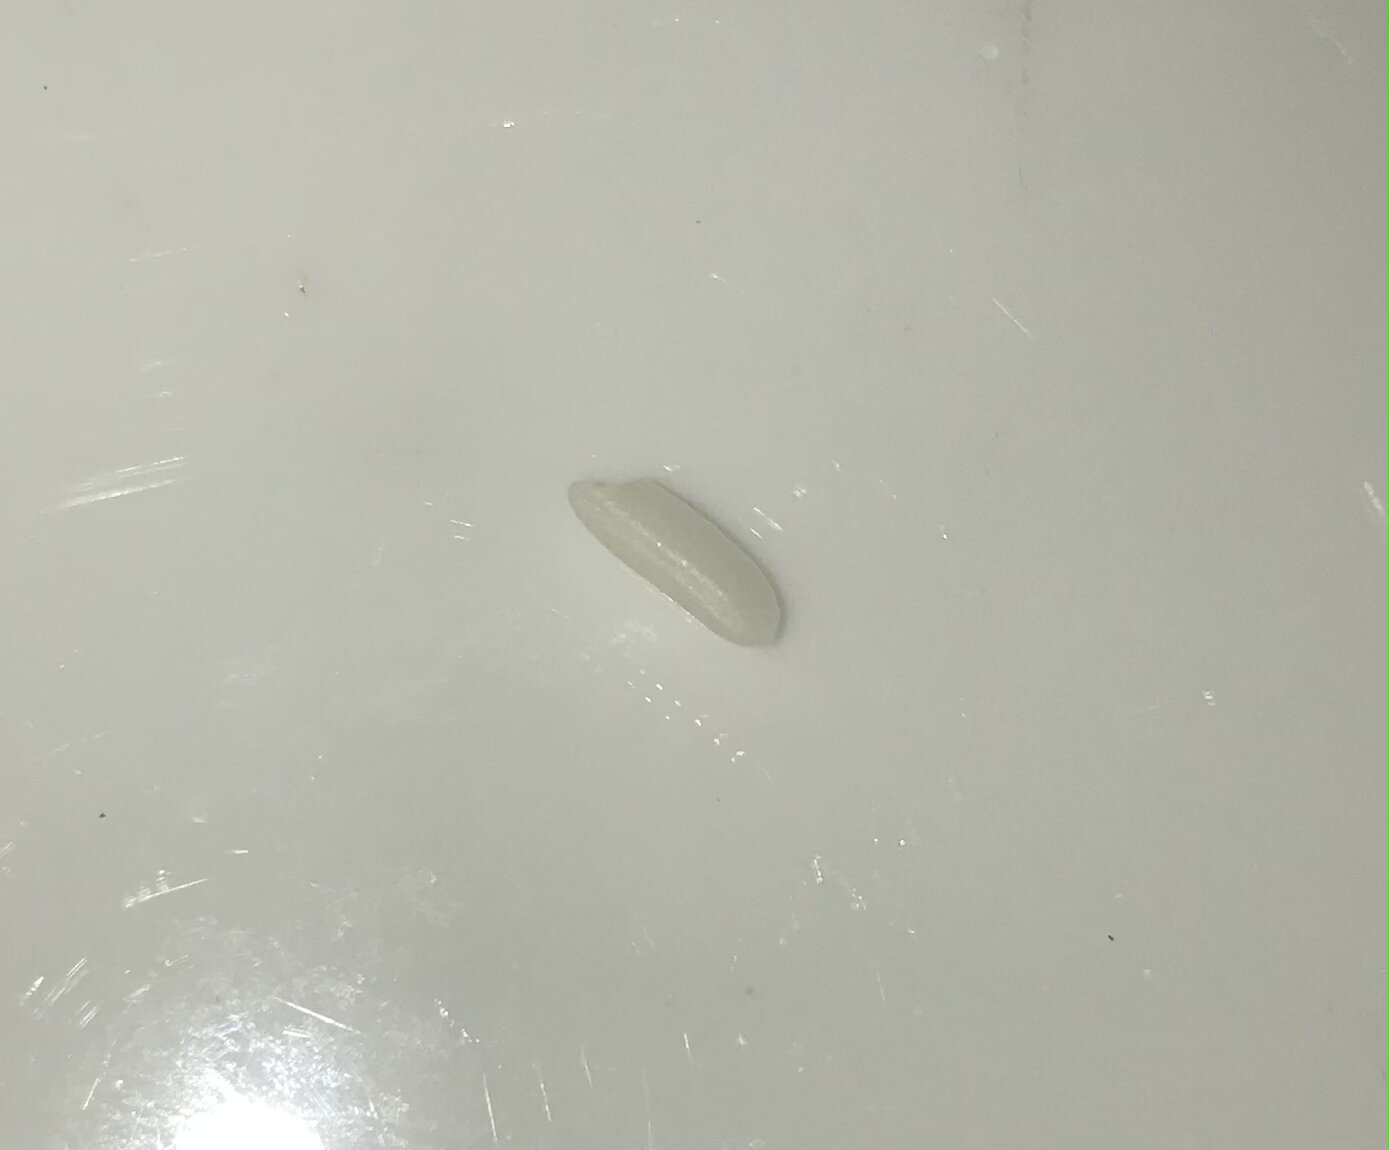Gao Lai Sua: (566, 467, 787, 652)
